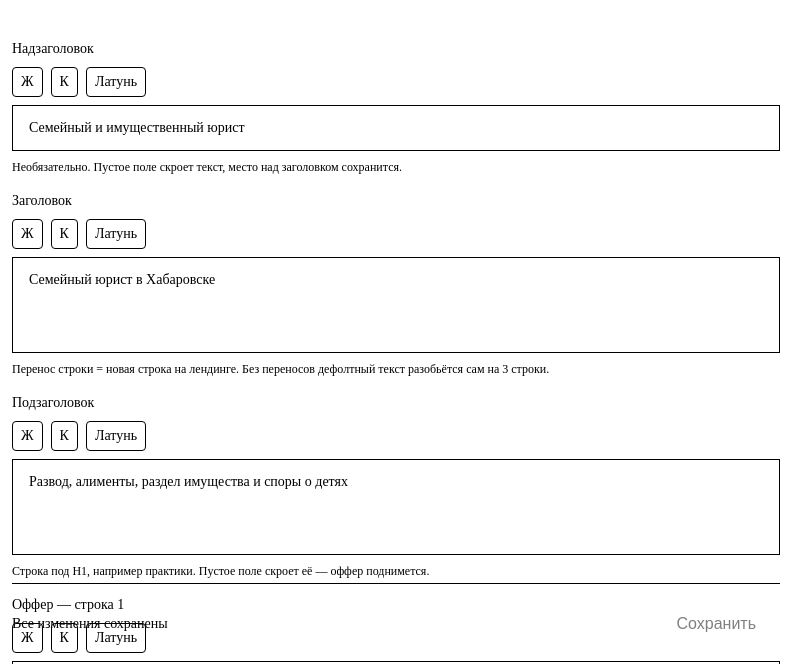
Test case: HeroLandingEditor › shows a Russian field error instead of the generic validation title
(page scrolled)
Clear the field named "Заголовок" at [396, 305], box [12,257,780,353]
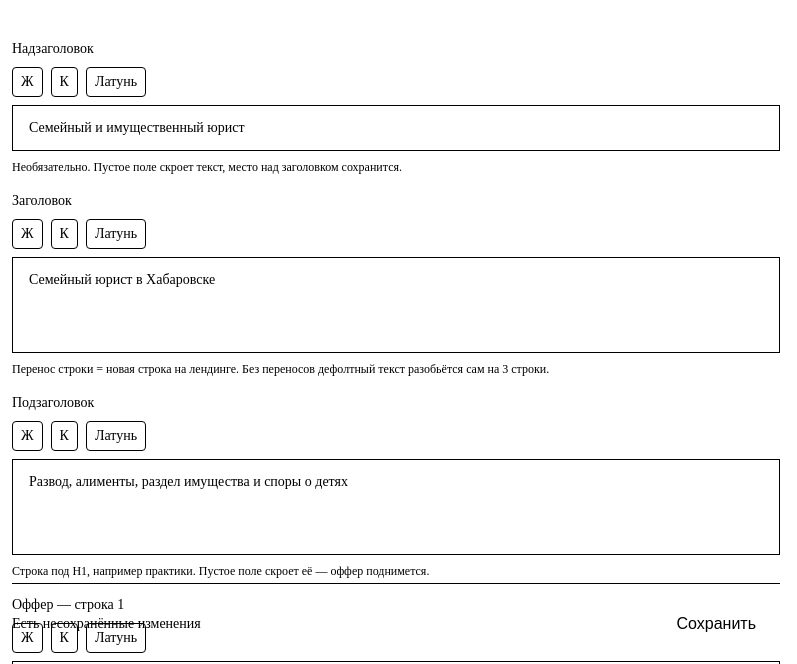
Click the button "Сохранить".
click(716, 624)  # box [652,600,780,648]
(page scrolled)
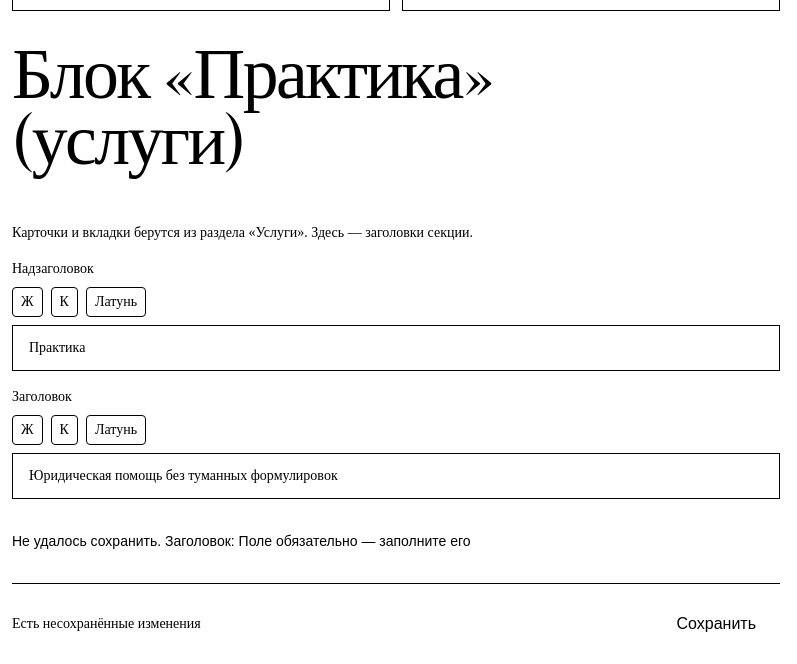
Expected: the message does not show "Проверьте заполненные поля.", [12,533,471,549]
Expected: the message shows "Заголовок", [12,533,471,549]
Expected: the message shows "заполните", [12,533,471,549]
